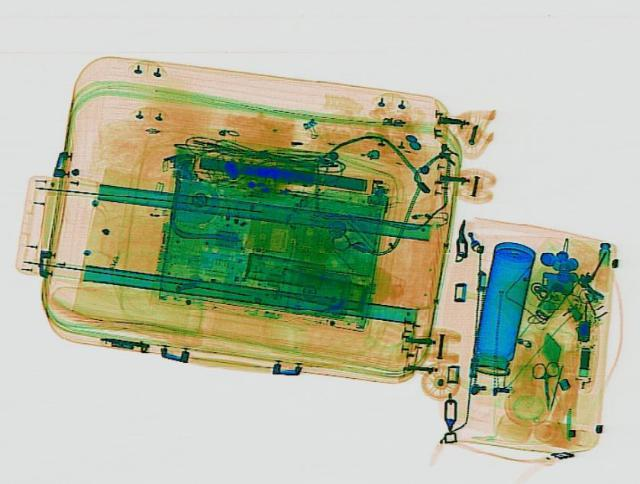Scissors: (530, 361, 562, 408)
